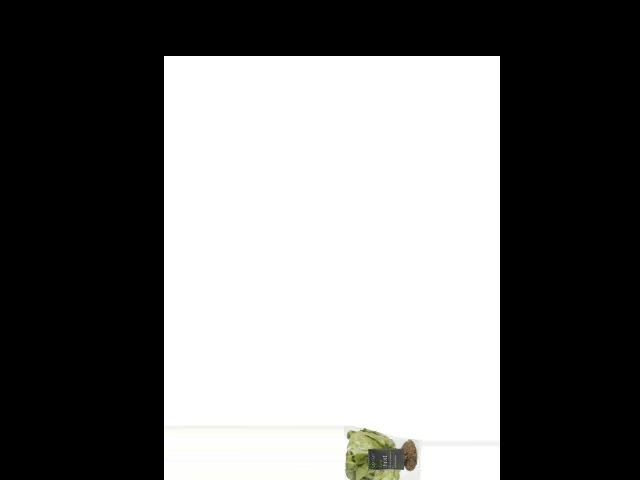lettuce: (344, 426, 421, 480)
